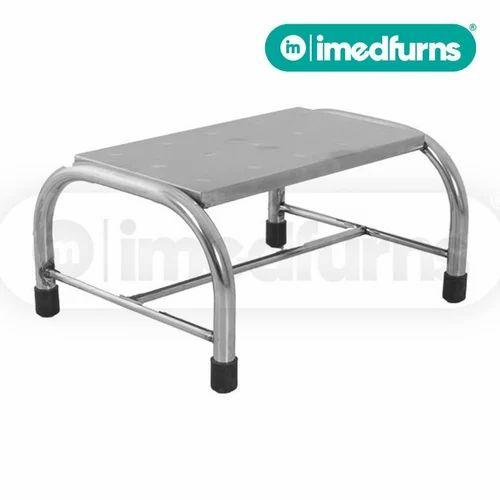stool: (14, 101, 499, 393)
